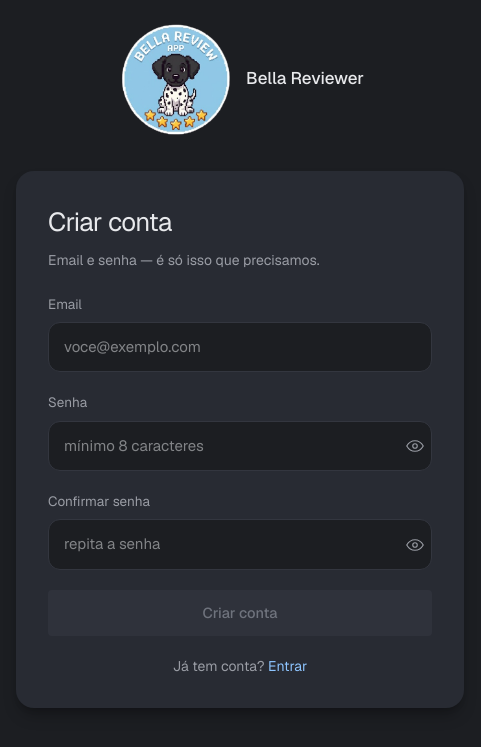
Test: SignupPage › shows an inline error for an already-registered email, without navigating
This screenshot has width=481, height=747.
Type "ana@example.com" into the field labelled "Email" at (240, 347), box left=48, top=322, right=432, bottom=372
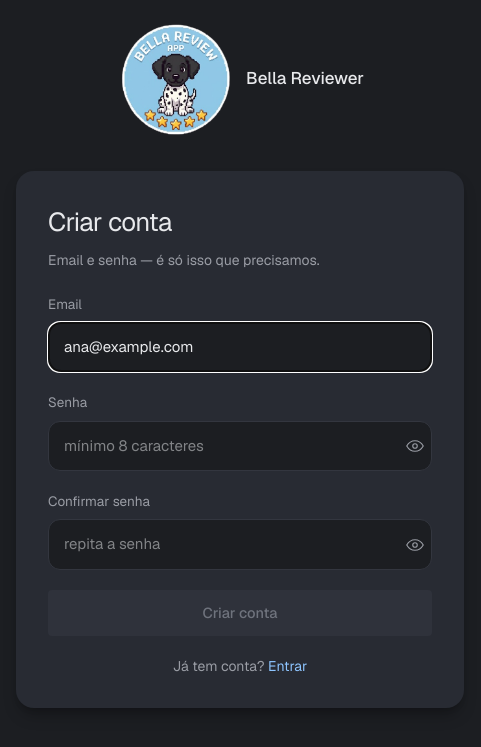
Type "senha1234" into the password field labelled "Senha" at (240, 446), box left=48, top=420, right=432, bottom=471
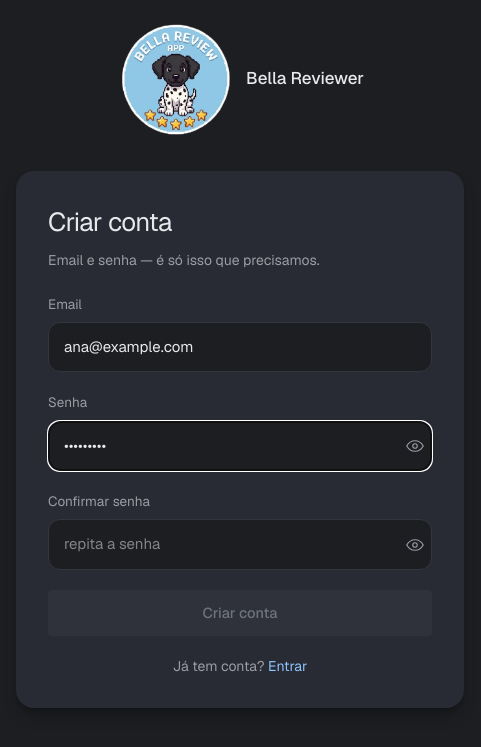
Type "senha1234" into the password field labelled "Confirmar senha" at (240, 545), box left=48, top=519, right=432, bottom=570
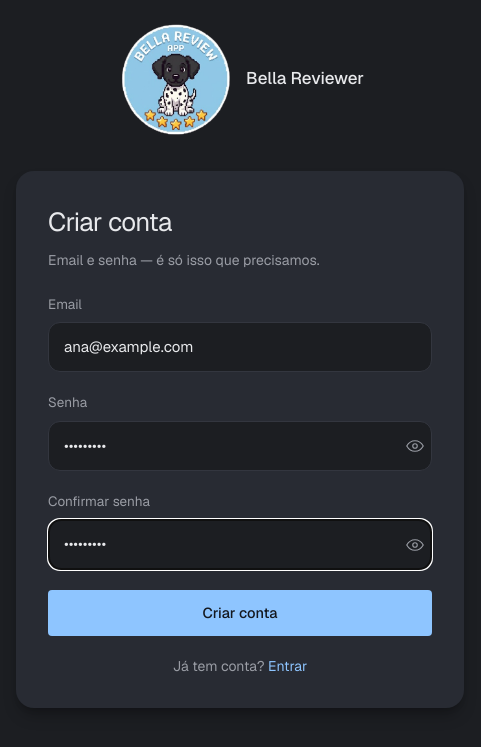
Click the button "Criar conta" at (240, 613), box left=48, top=590, right=432, bottom=636
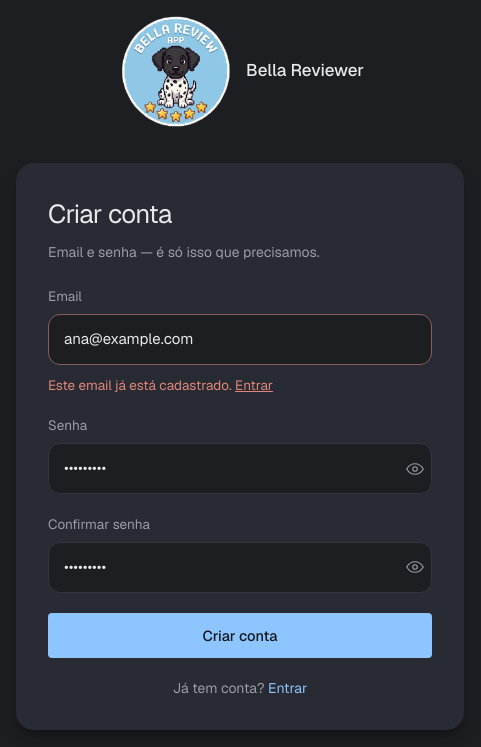
Expected: the heading "Criar conta" is shown, left=48, top=197, right=172, bottom=231
Expected: the text "Este email já está cadastrado." is shown, left=48, top=376, right=232, bottom=394
